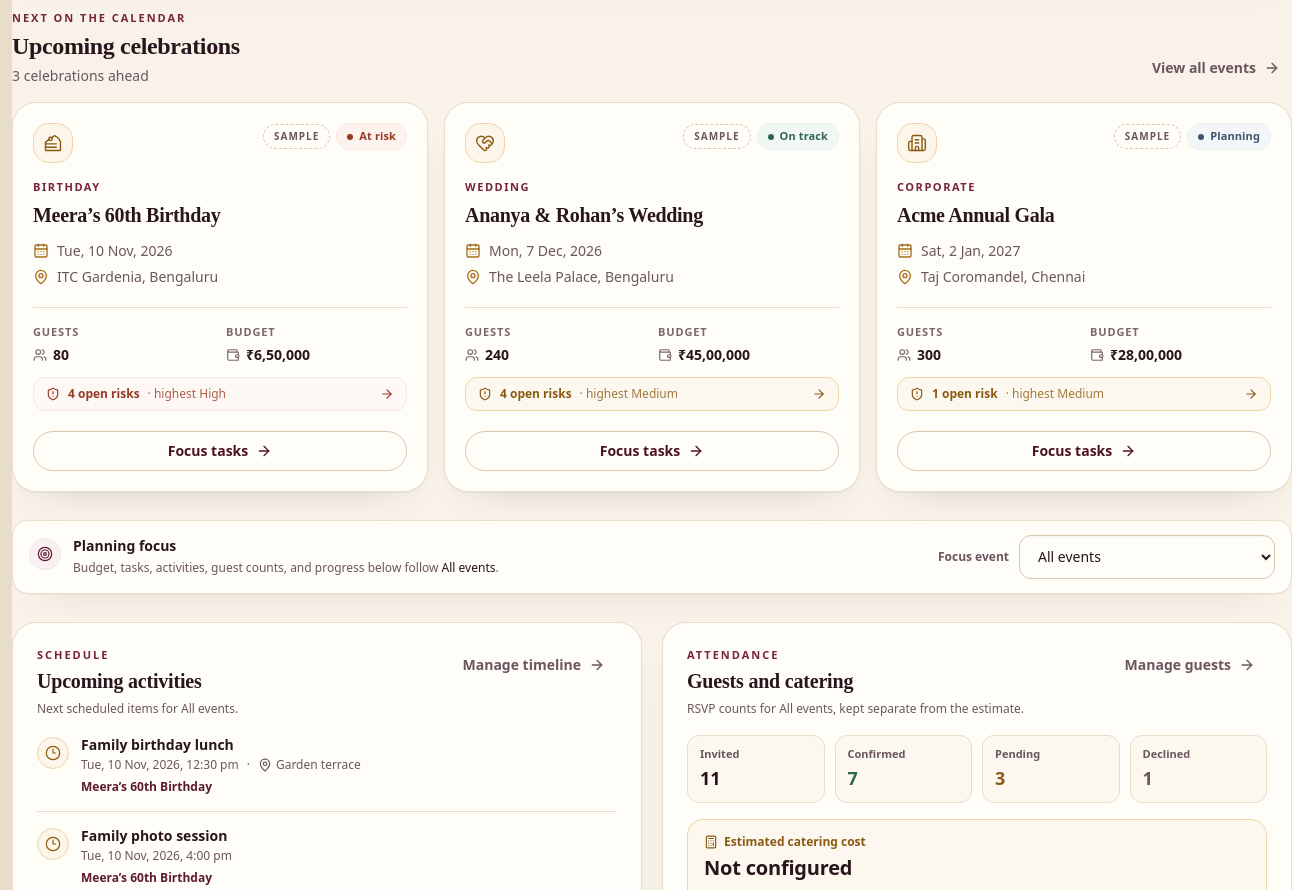
Test: DashboardPage › focuses budgets and tasks on a selected event
The image size is (1292, 890).
(page scrolled)
Click the button with aria-label "focus budgets and tasks on meera".
click(220, 451)  # box [33, 431, 407, 471]
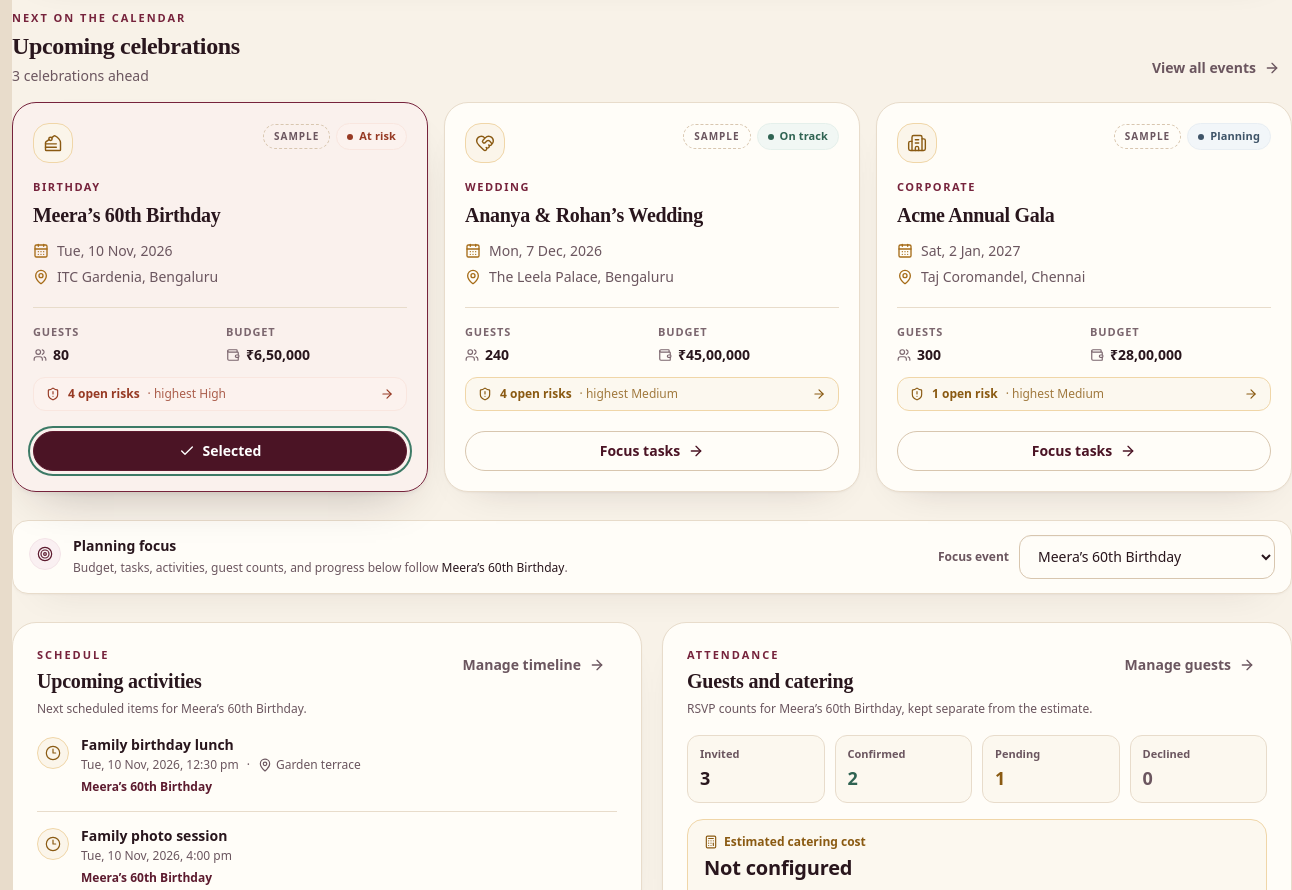
Result: the dropdown labelled "Focus event" shows "Meera’s 60th Birthday" at [1019, 535, 1275, 579]
